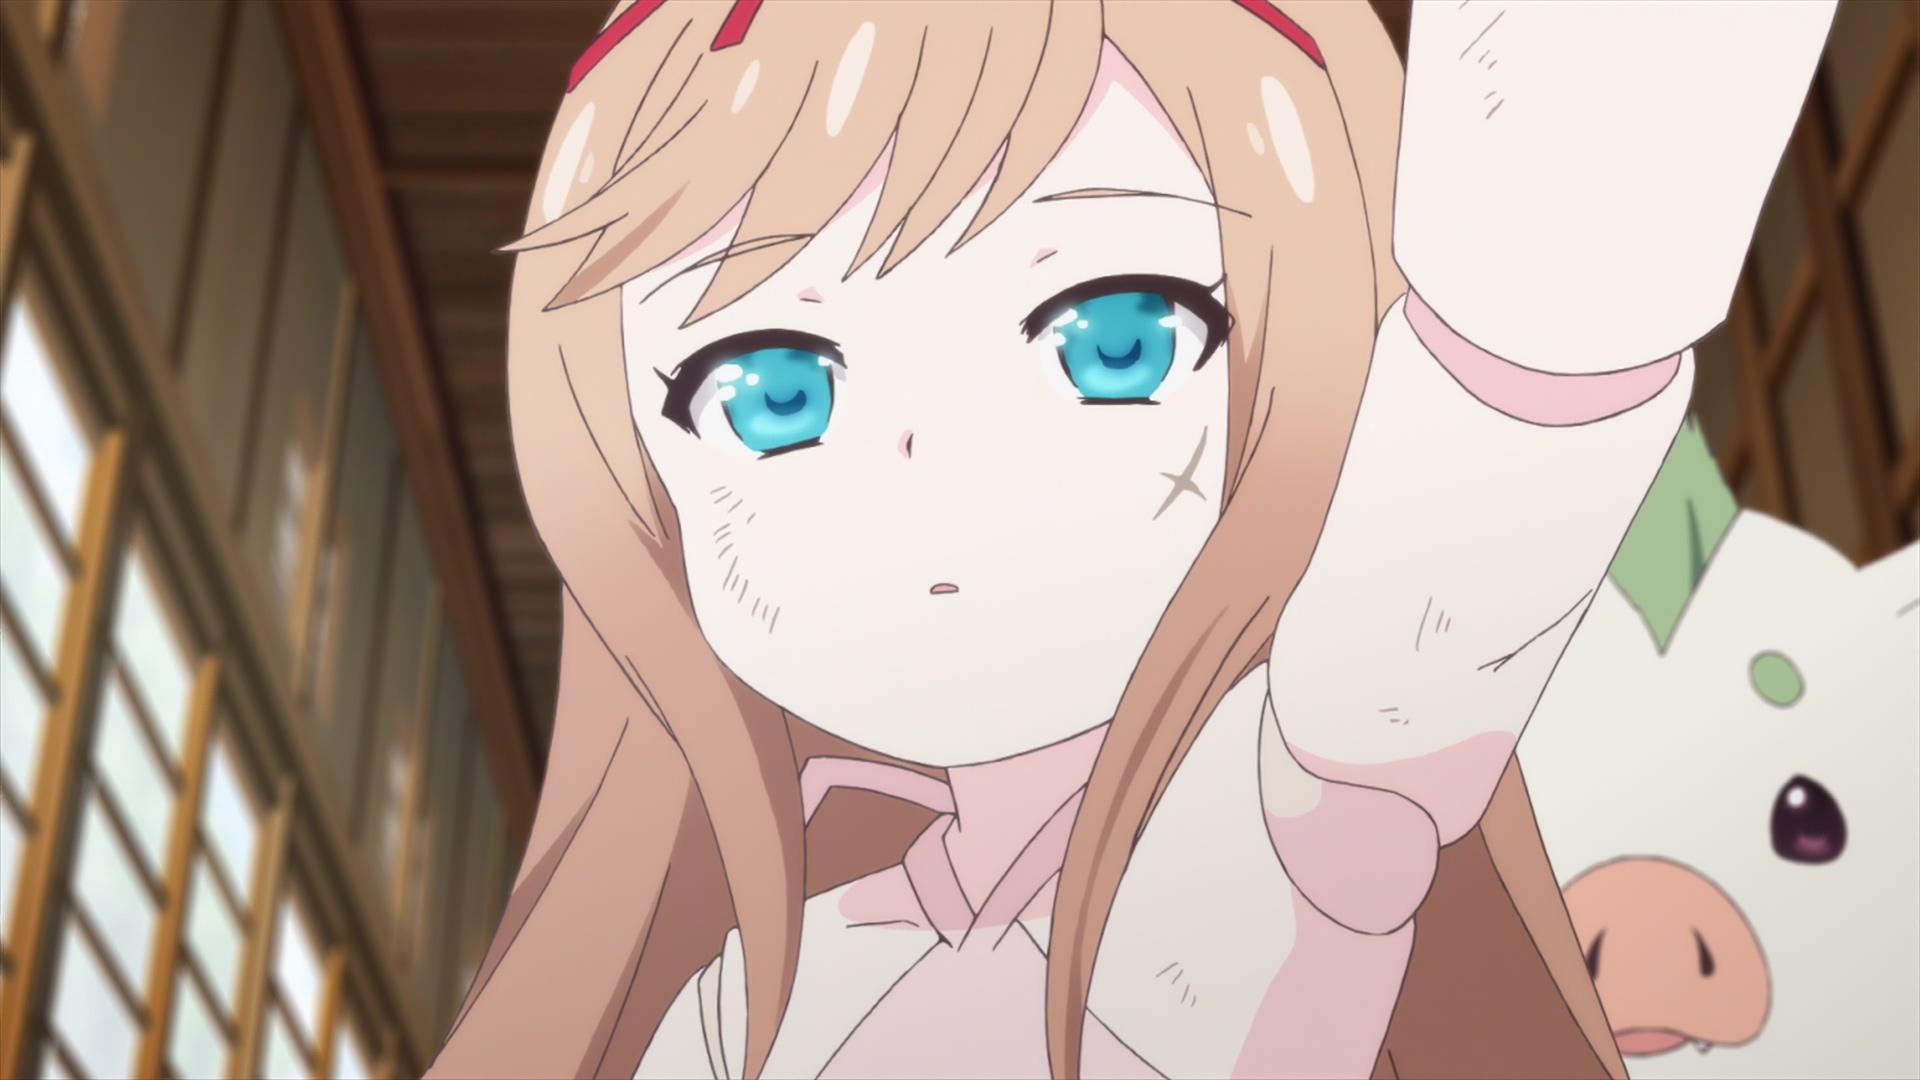其他: (419, 1, 1838, 1080)
瓜之介: (1516, 411, 1920, 1080)
